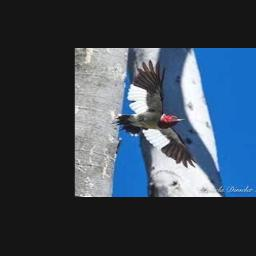Woodpecker: (110, 60, 196, 169)
